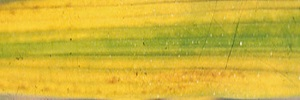RiceTungro: (2, 4, 300, 99)
